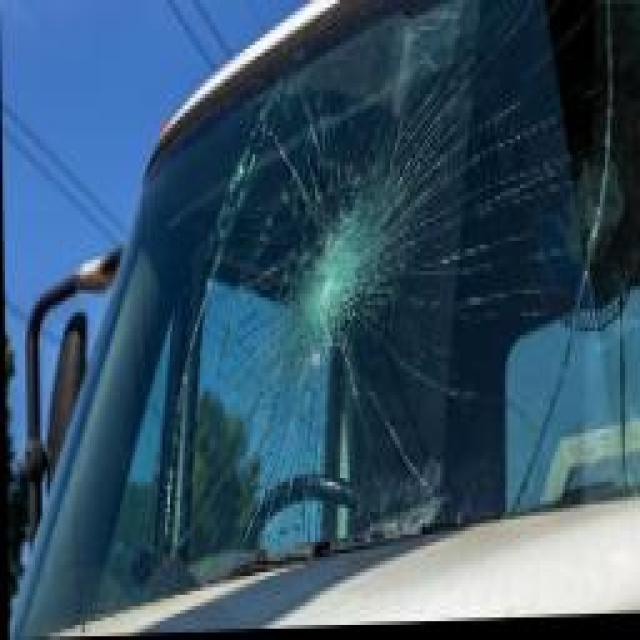Windshield: (75, 0, 632, 614)
